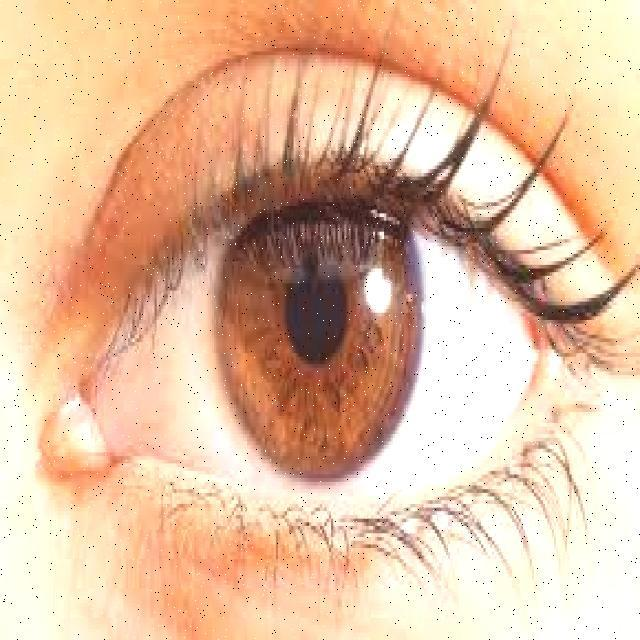Normal: (27, 15, 636, 618)
